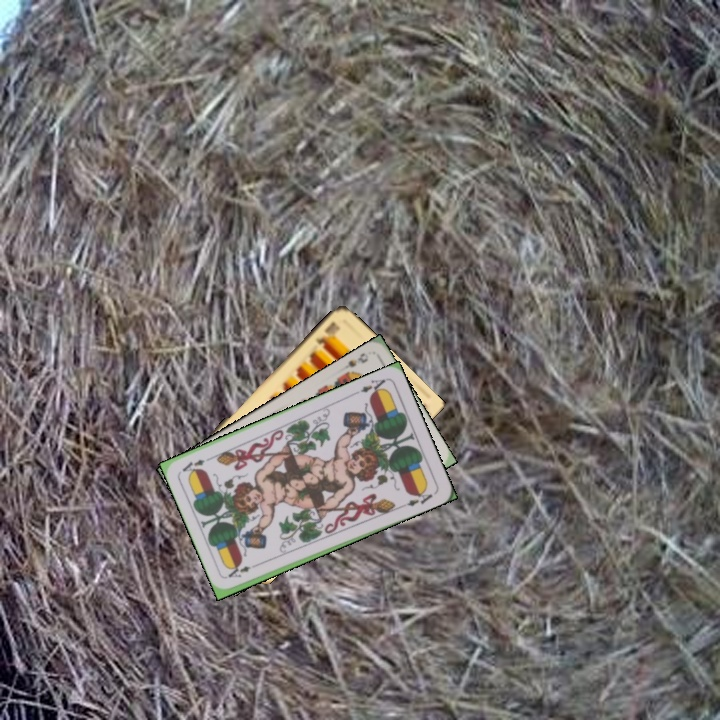E10: (311, 318, 343, 350)
EA: (224, 559, 263, 580), (357, 375, 389, 398)
S9: (338, 349, 371, 380)
